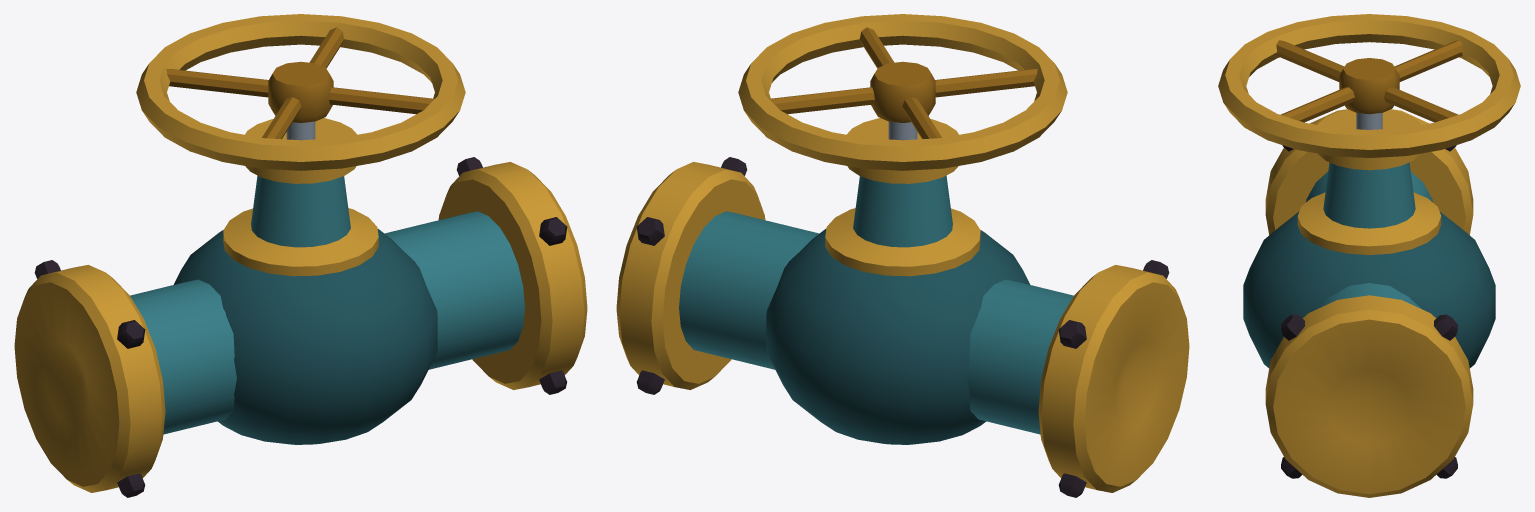
The model's file is Valve_32.glb.
The picture shows the model from 3 angles, left to right: view 1: azimuth 30°, elevation 25°; view 2: azimuth 150°, elevation 25°; view 3: azimuth 270°, elevation 25°; orthographic projection. The views are drawn at different scales.
Parts seen in each view (by area): view 1: Valve_32; view 2: Valve_32; view 3: Valve_32.
Boxes of the visible parts, x1,y1,x2,y2 form: Valve_32: (14, 14, 587, 497); Valve_32: (616, 14, 1189, 497); Valve_32: (1218, 14, 1520, 497).
Size of the model in its own units: 2.64 by 1.92 by 1.61.
